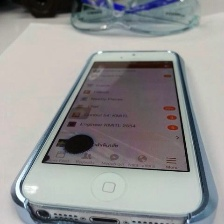phone: (5, 47, 217, 224)
